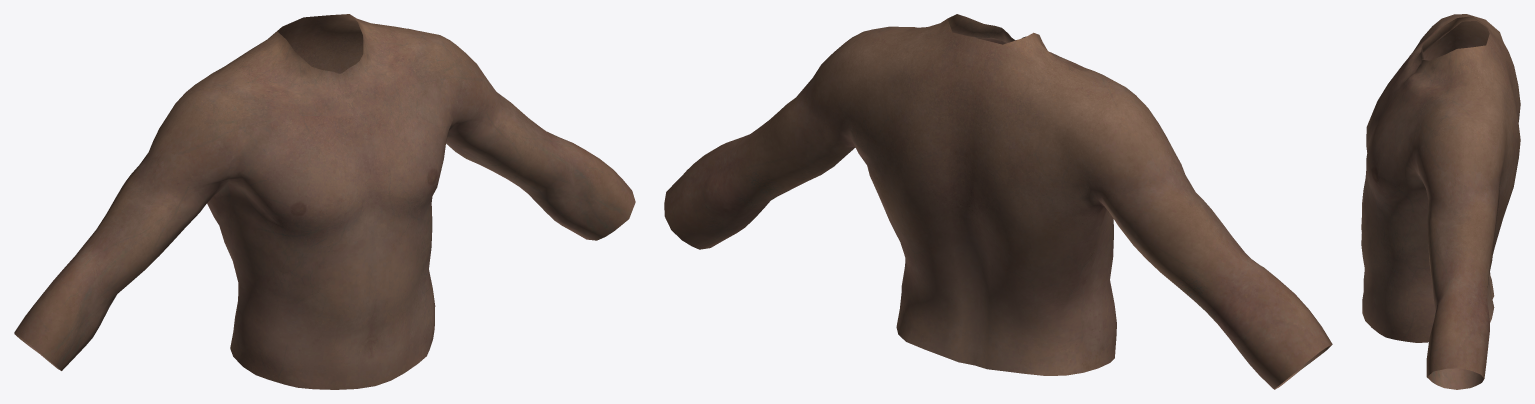
The model's file is Pecho.glb.
3 renders of one model, left to right at view 1: azimuth 30°, elevation 25°; view 2: azimuth 150°, elevation 25°; view 3: azimuth 270°, elevation 25°, orthographic. The views are drawn at different scales.
Parts seen in each view (by area): view 1: #06#|P[FC_M_0000]_Body.matxml|mesh3, #08#|P[FC_M_0000]_Body.matxml|mesh5, #09#|P[FC_M_0000]_Body.matxml|mesh6, #05#|P[FC_M_0000]_Body.matxml|mesh2, #07#|P[FC_M_0000]_Body.matxml|mesh4; view 2: #06#|P[FC_M_0000]_Body.matxml|mesh3, #08#|P[FC_M_0000]_Body.matxml|mesh5, #09#|P[FC_M_0000]_Body.matxml|mesh6, #07#|P[FC_M_0000]_Body.matxml|mesh4, #05#|P[FC_M_0000]_Body.matxml|mesh2; view 3: #06#|P[FC_M_0000]_Body.matxml|mesh3, #08#|P[FC_M_0000]_Body.matxml|mesh5, #09#|P[FC_M_0000]_Body.matxml|mesh6, #05#|P[FC_M_0000]_Body.matxml|mesh2, #07#|P[FC_M_0000]_Body.matxml|mesh4.
Boxes of the visible parts, left/top/right/bottom form: #06#|P[FC_M_0000]_Body.matxml|mesh3: left=208, top=33, right=447, bottom=389; #08#|P[FC_M_0000]_Body.matxml|mesh5: left=127, top=27, right=508, bottom=228; #09#|P[FC_M_0000]_Body.matxml|mesh6: left=14, top=137, right=635, bottom=370; #05#|P[FC_M_0000]_Body.matxml|mesh2: left=224, top=14, right=403, bottom=128; #07#|P[FC_M_0000]_Body.matxml|mesh4: left=75, top=97, right=564, bottom=293; #06#|P[FC_M_0000]_Body.matxml|mesh3: left=868, top=63, right=1116, bottom=375; #08#|P[FC_M_0000]_Body.matxml|mesh5: left=785, top=26, right=1195, bottom=245; #09#|P[FC_M_0000]_Body.matxml|mesh6: left=664, top=137, right=1332, bottom=389; #07#|P[FC_M_0000]_Body.matxml|mesh4: left=728, top=104, right=1251, bottom=312; #05#|P[FC_M_0000]_Body.matxml|mesh2: left=890, top=14, right=1082, bottom=99; #06#|P[FC_M_0000]_Body.matxml|mesh3: left=1361, top=34, right=1520, bottom=342; #08#|P[FC_M_0000]_Body.matxml|mesh5: left=1404, top=14, right=1508, bottom=230; #09#|P[FC_M_0000]_Body.matxml|mesh6: left=1426, top=280, right=1489, bottom=389; #05#|P[FC_M_0000]_Body.matxml|mesh2: left=1392, top=16, right=1508, bottom=98; #07#|P[FC_M_0000]_Body.matxml|mesh4: left=1427, top=213, right=1494, bottom=301.
Size of the model in its own units: 0.9216 by 0.46 by 0.2358.
1 material, 1 textured.
